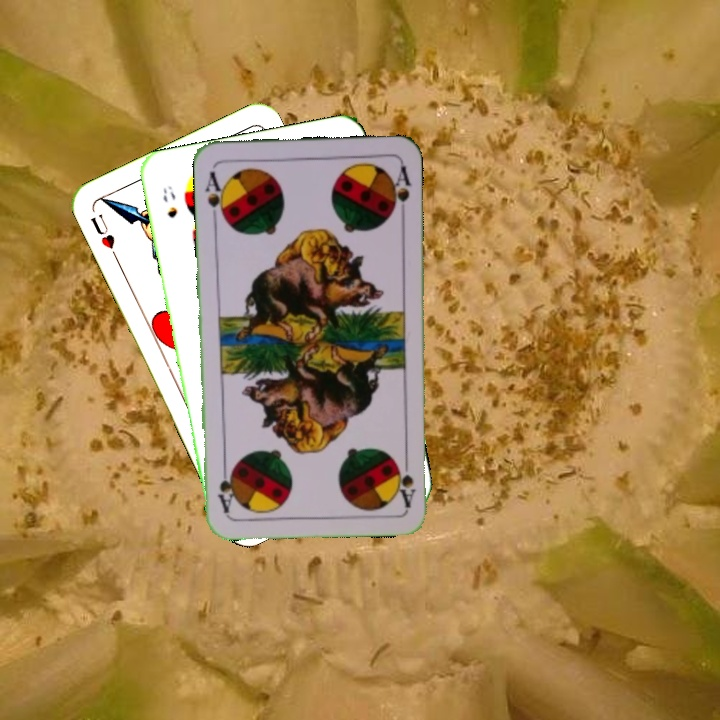HU: (86, 209, 120, 262)
S8: (158, 182, 180, 220)
SA: (201, 167, 229, 224), (394, 450, 418, 509)
